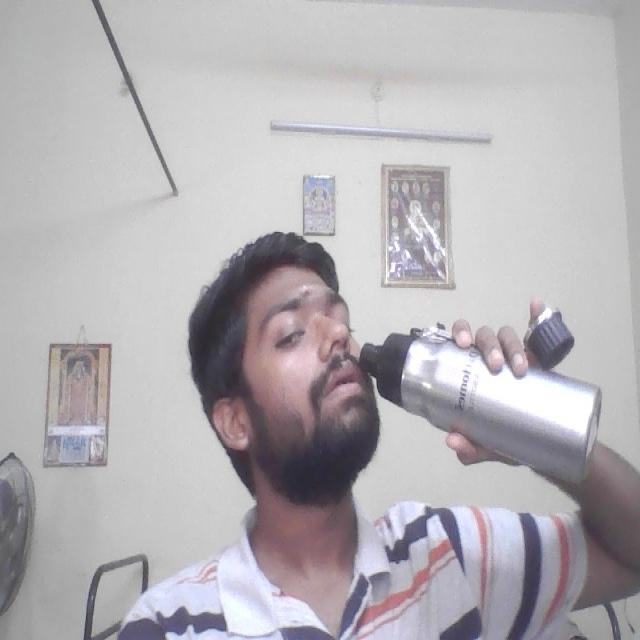Drinking: (360, 305, 611, 497)
